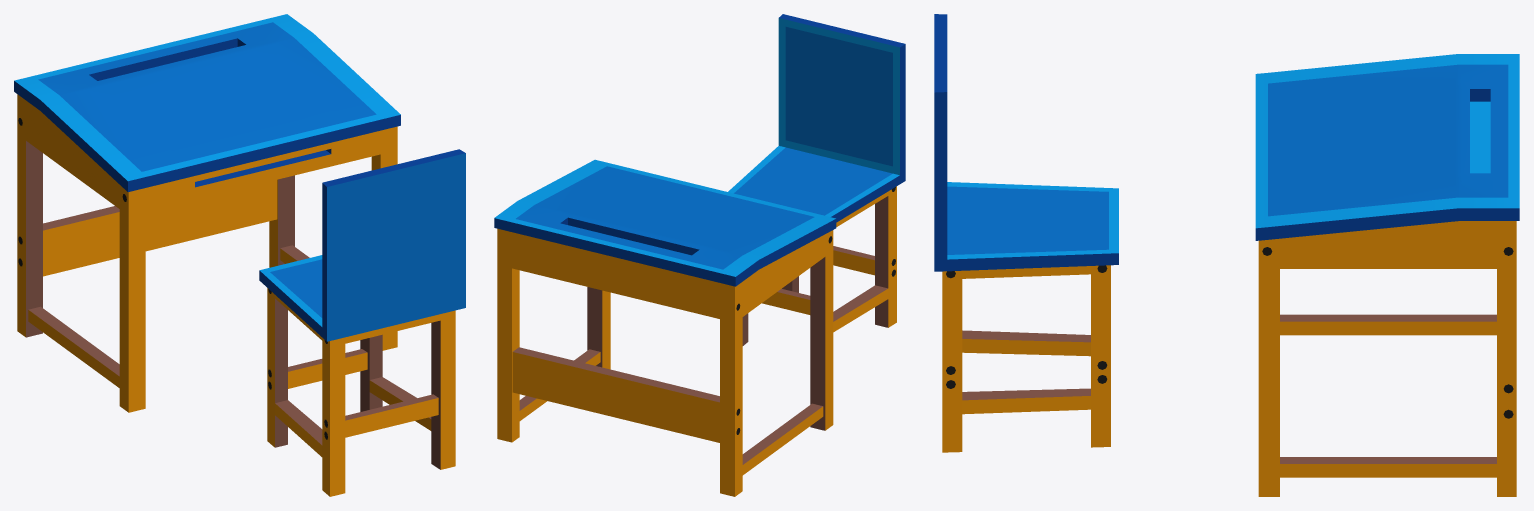
The model's file is Studant Table Chair LEVEL-3-3.fbx.
3 renders of one model, left to right at view 1: azimuth 30°, elevation 25°; view 2: azimuth 150°, elevation 25°; view 3: azimuth 270°, elevation 25°, orthographic. The views are drawn at different scales.
Parts seen in each view (by area): view 1: Studant Table Chair LEVEL-3-3; view 2: Studant Table Chair LEVEL-3-3; view 3: Studant Table Chair LEVEL-3-3.
Part boxes in pixels (x1,y1,x2,y2): Studant Table Chair LEVEL-3-3: [14, 14, 465, 496]; Studant Table Chair LEVEL-3-3: [494, 14, 905, 496]; Studant Table Chair LEVEL-3-3: [934, 14, 1519, 496].
Bounding box in the file's own units: 7.27 × 7.99 × 11.64.
